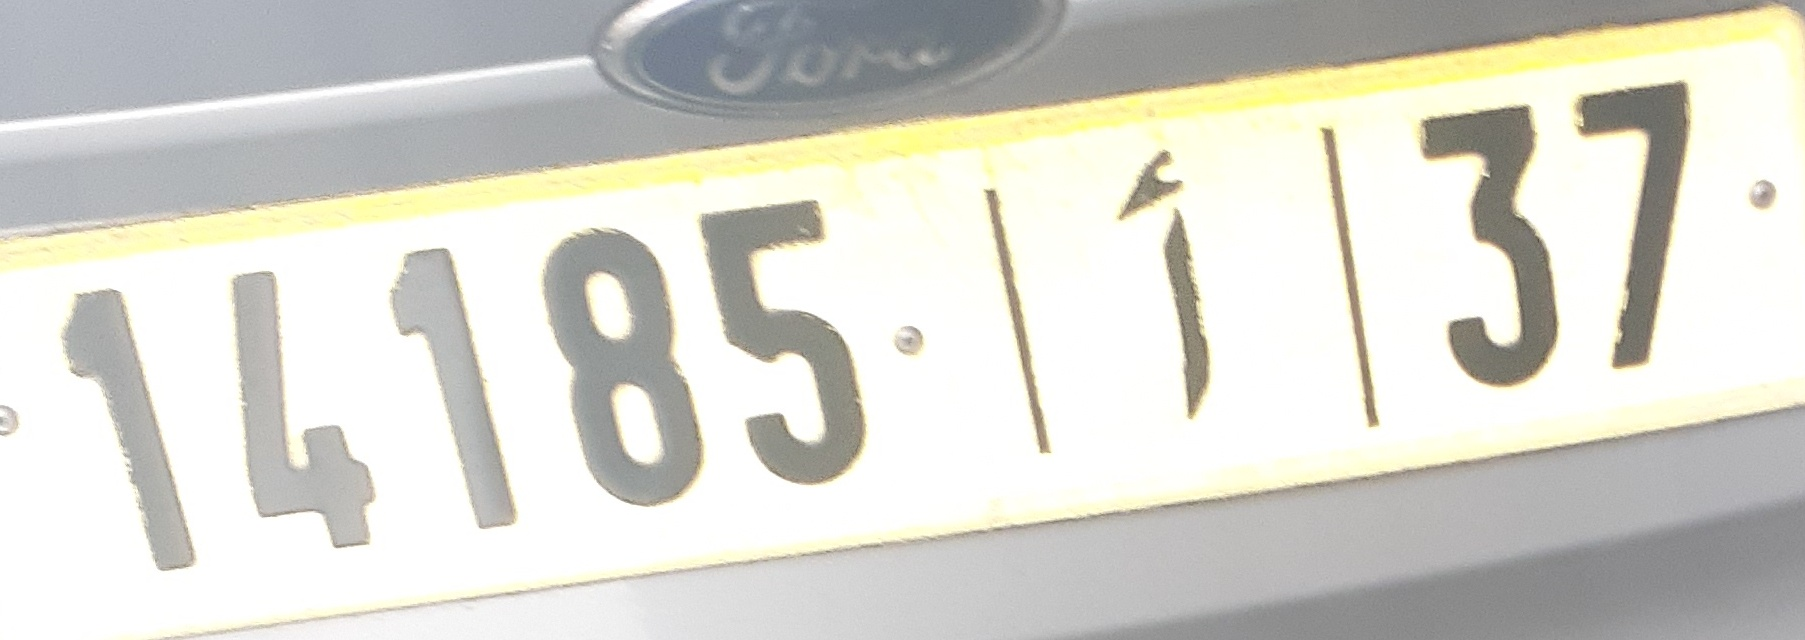1: (49, 270, 213, 581), (383, 242, 534, 542)
3: (1409, 93, 1573, 389)
4: (217, 255, 383, 566)
5: (694, 189, 879, 493)
7: (1569, 78, 1711, 376)
8: (536, 221, 707, 508)
a: (1111, 140, 1239, 430)
